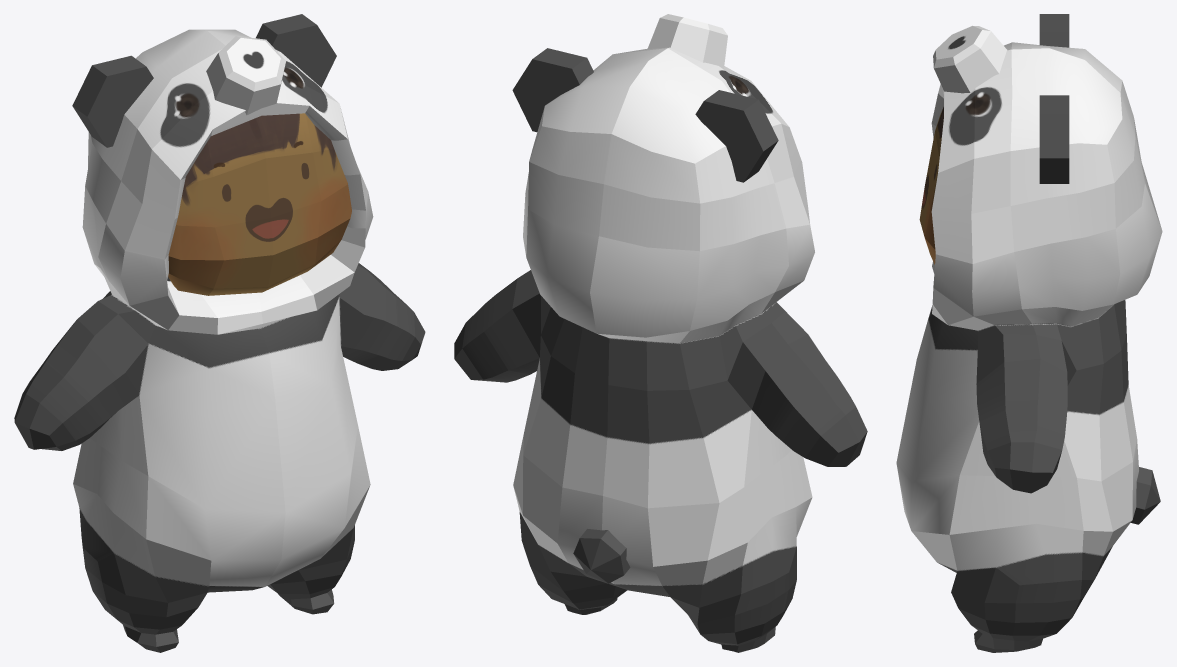
File: pan.fbx
3 renders of one model, left to right at view 1: azimuth 30°, elevation 25°; view 2: azimuth 150°, elevation 25°; view 3: azimuth 270°, elevation 25°, orthographic. The views are drawn at different scales.
Visible parts, largest first — view 1: Pan, headLP; view 2: Pan; view 3: Pan, headLP.
Part boxes in pixels (bbox=[...]): Pan: bbox=[14, 14, 425, 652]; headLP: bbox=[168, 113, 351, 295]; Pan: bbox=[454, 14, 867, 652]; Pan: bbox=[896, 14, 1162, 652]; headLP: bbox=[919, 107, 943, 264].
Bounding box in the file's own units: 10.21 × 14.37 × 5.98.
